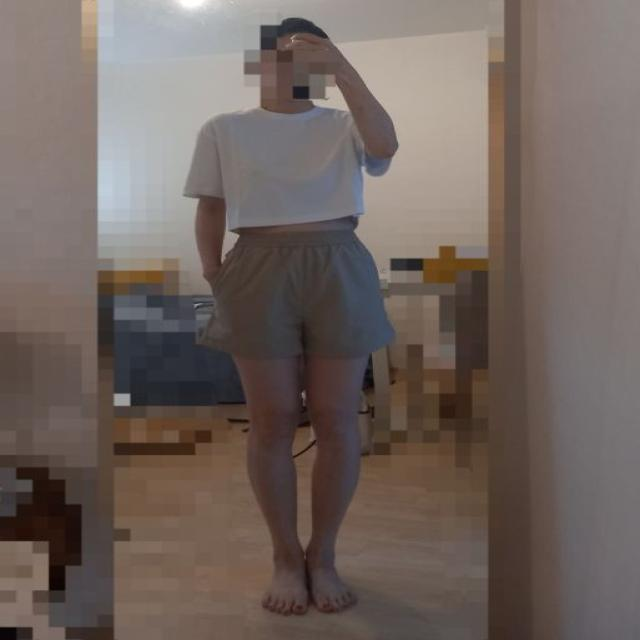shortpants: (193, 236, 402, 362)
shortsleeve: (185, 98, 393, 231)
